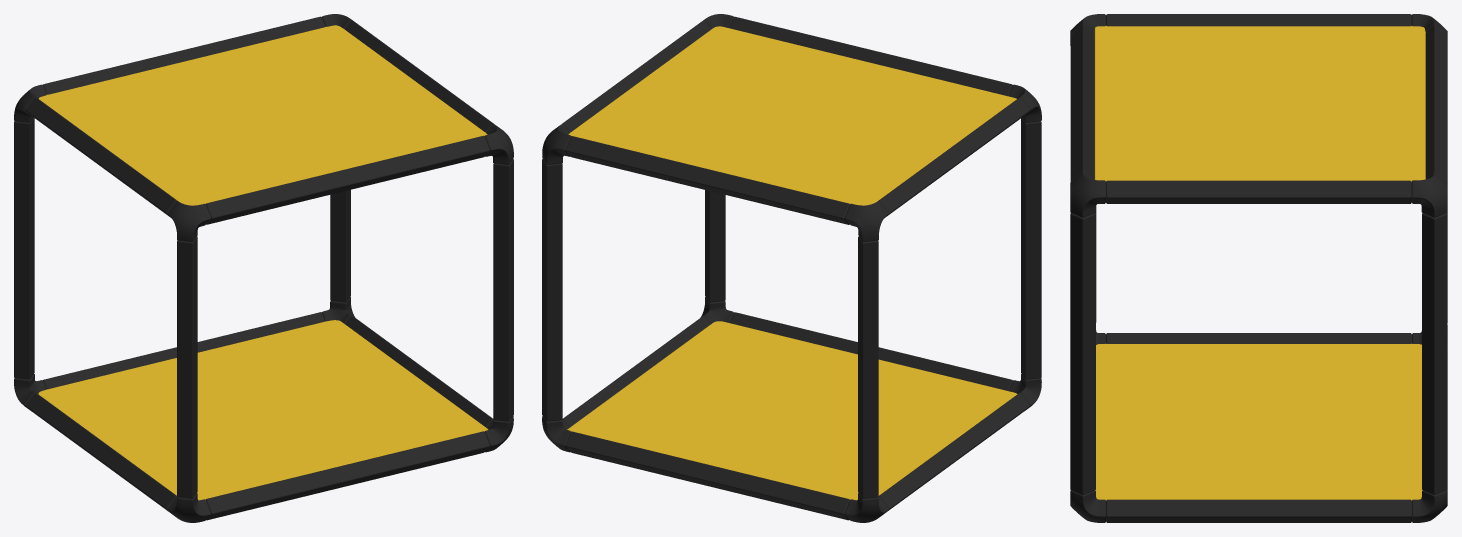
3 renders of one model, left to right at view 1: azimuth 30°, elevation 25°; view 2: azimuth 150°, elevation 25°; view 3: azimuth 270°, elevation 25°, orthographic. The views are drawn at different scales.
Visible parts, largest first — view 1: 374x329x329; view 2: 374x329x329; view 3: 374x329x329.
Part boxes in pixels (x1,y1,x2,y2): 374x329x329: (14, 14, 513, 522); 374x329x329: (542, 14, 1041, 522); 374x329x329: (1070, 14, 1447, 522).
Bounding box in the file's own units: 0.4517 × 0.4066 × 0.4063.
